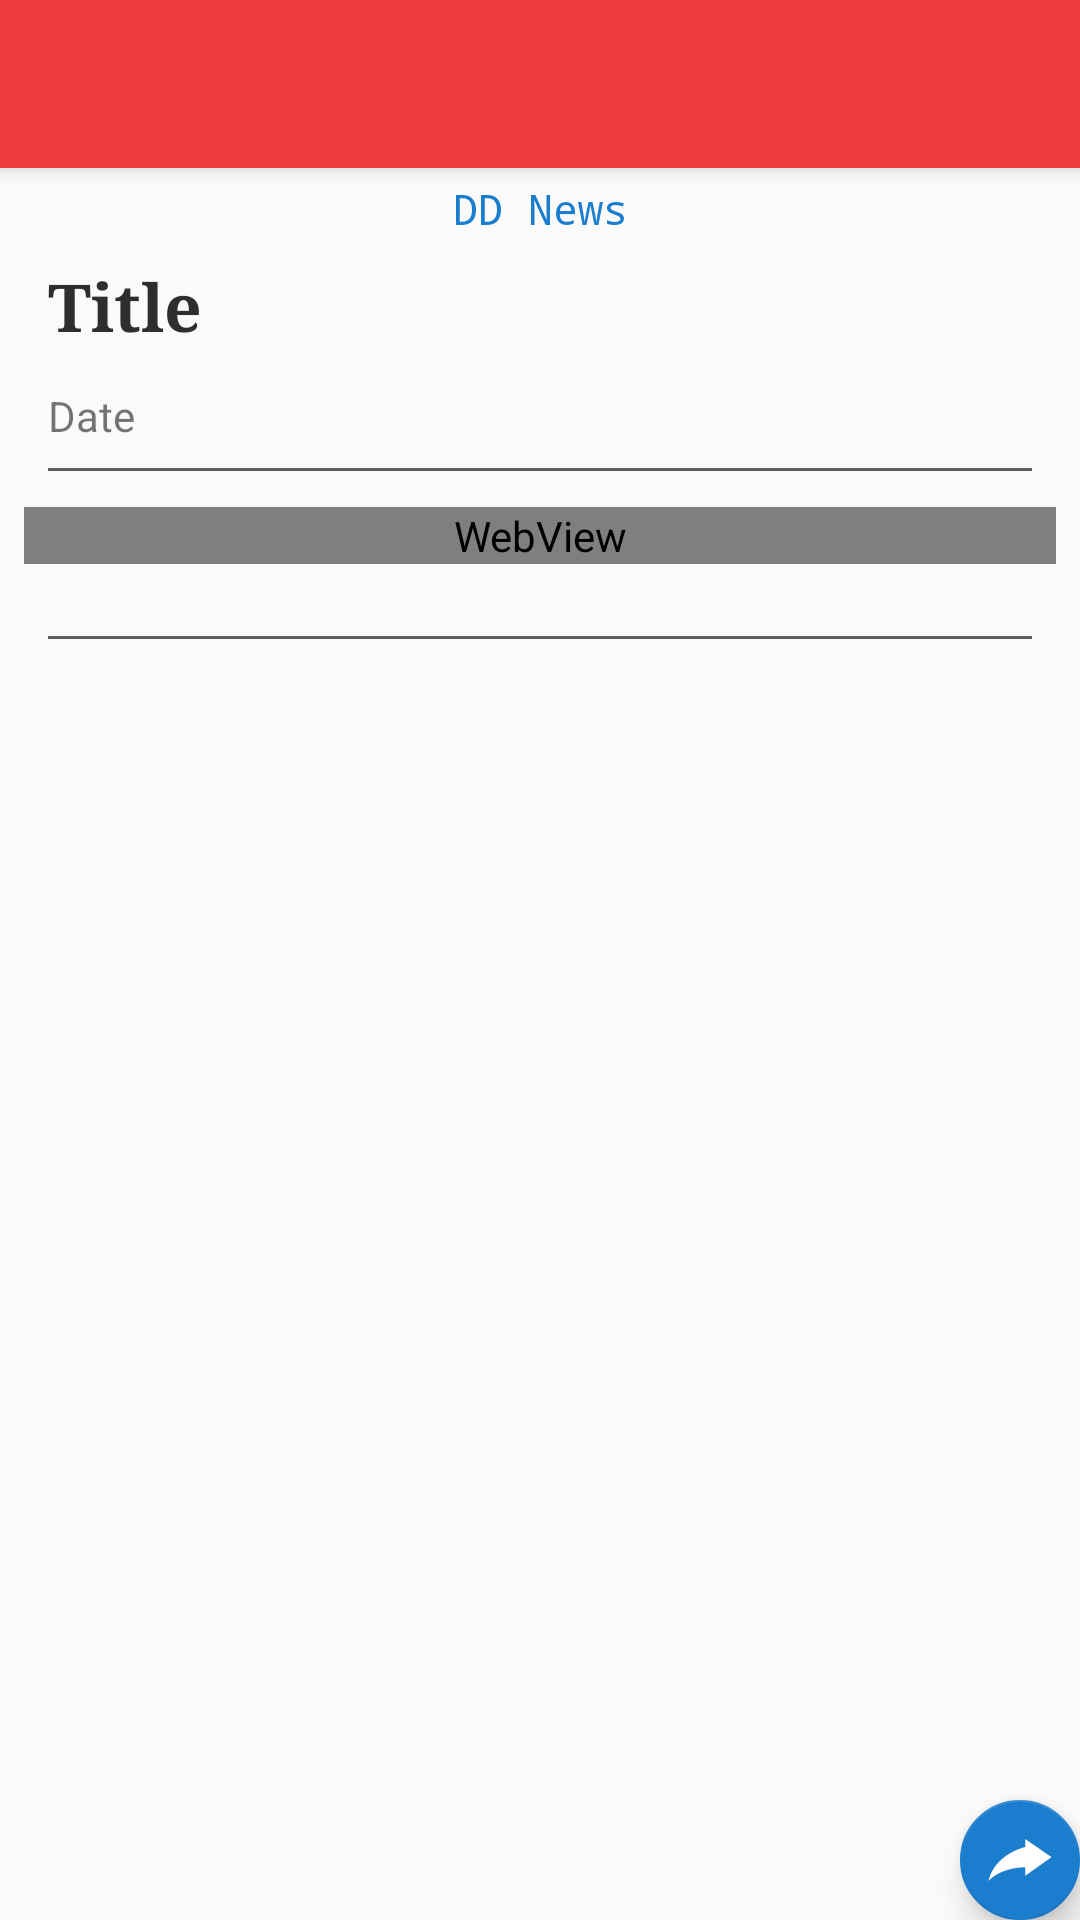

Point at icon controls on the screen. Image size 1080*1920, points as [x,y].
share: [1020,1860]
